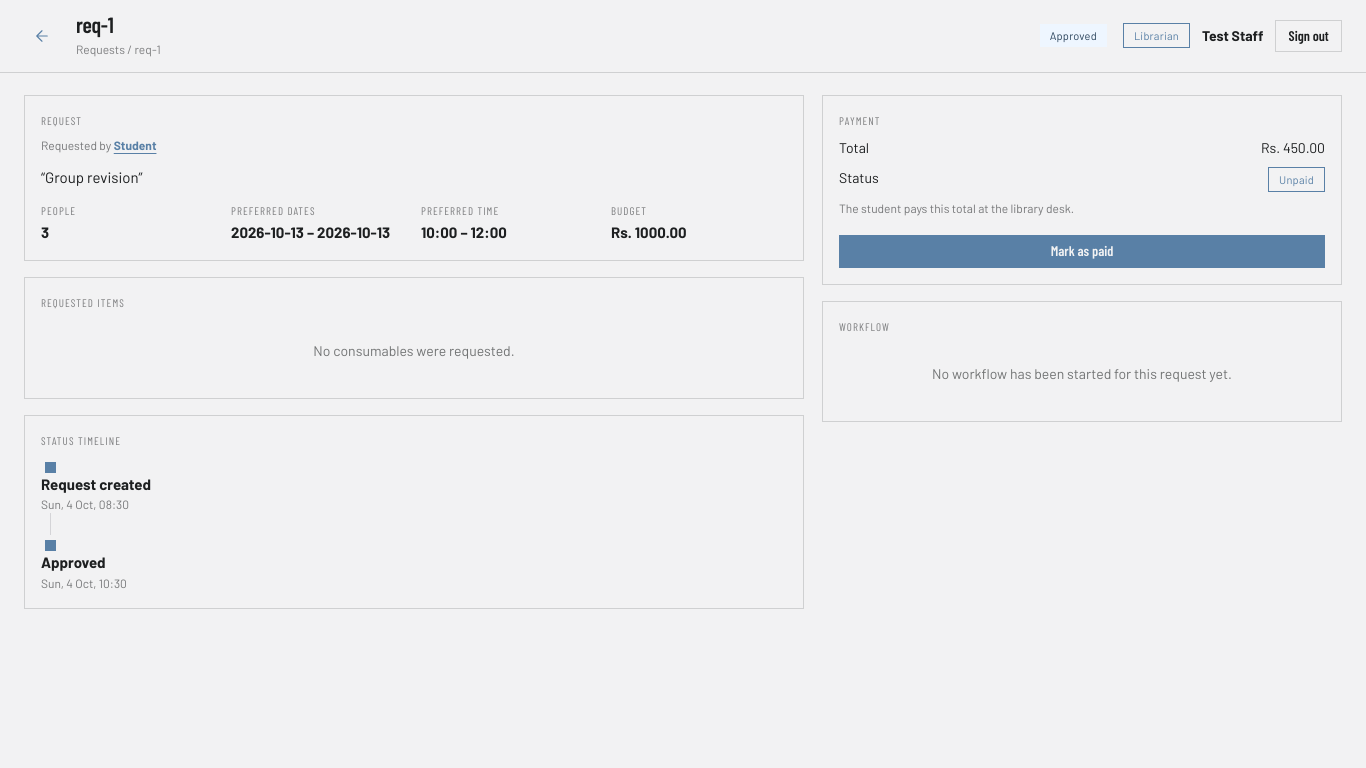
it: PLAN.md 3.3 payment › Librarian marks an unpaid approved request as paid with a receipt number
Check: the text "Unpaid" is shown, box [1268, 167, 1325, 192]
Click the button "Mark as paid". click: coordinates (1082, 251)
box: [839, 235, 1325, 268]
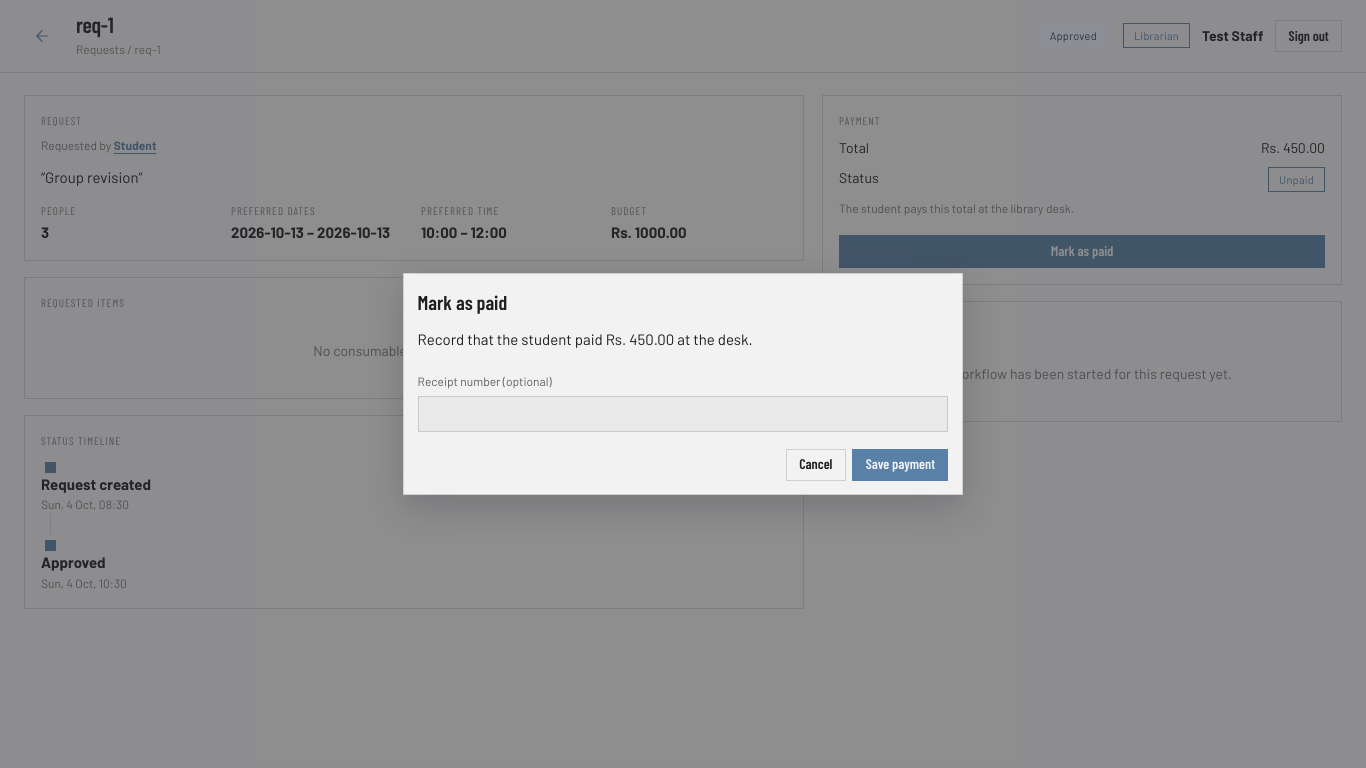
Type "RCPT-7" into the field named "Receipt number (optional)". click: coordinates (683, 414)
box: [418, 396, 948, 432]
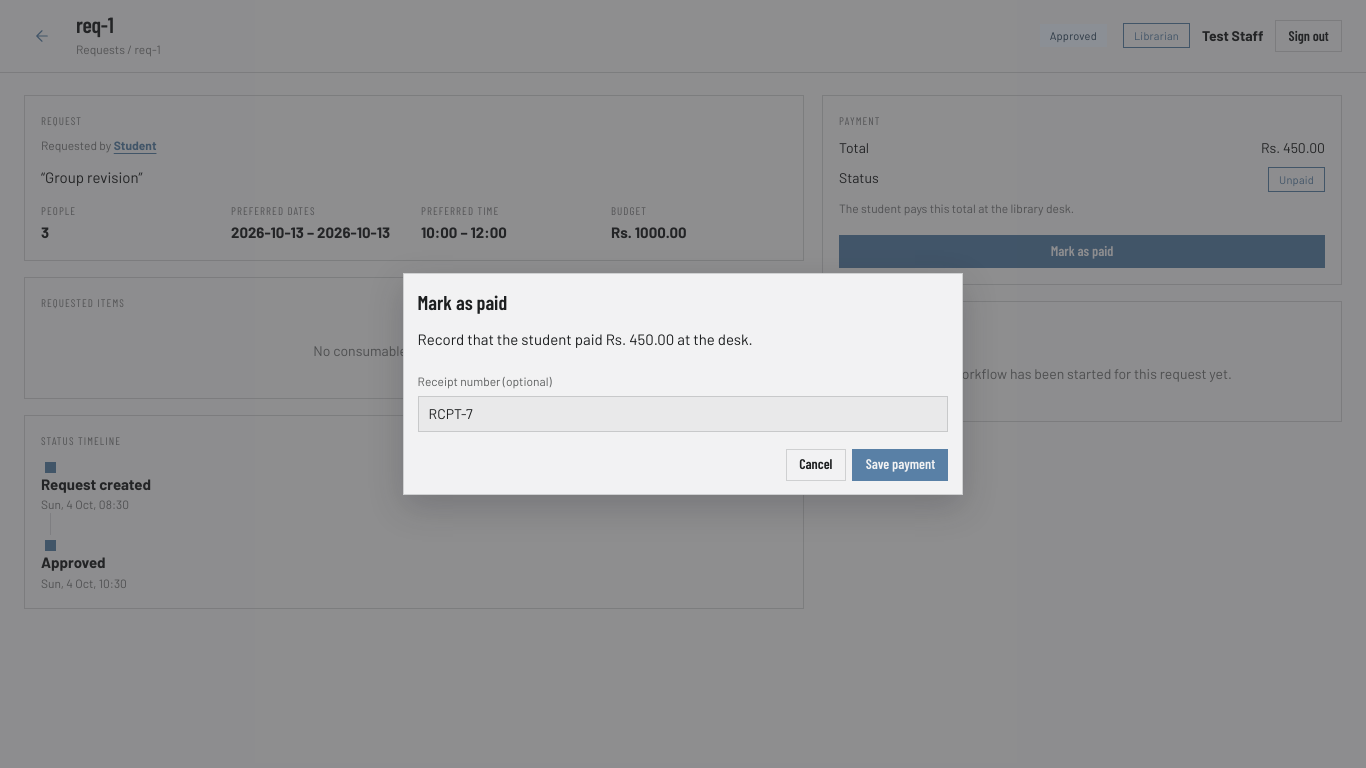
Click the button "Save payment". click: coordinates (900, 465)
box: [852, 448, 948, 481]
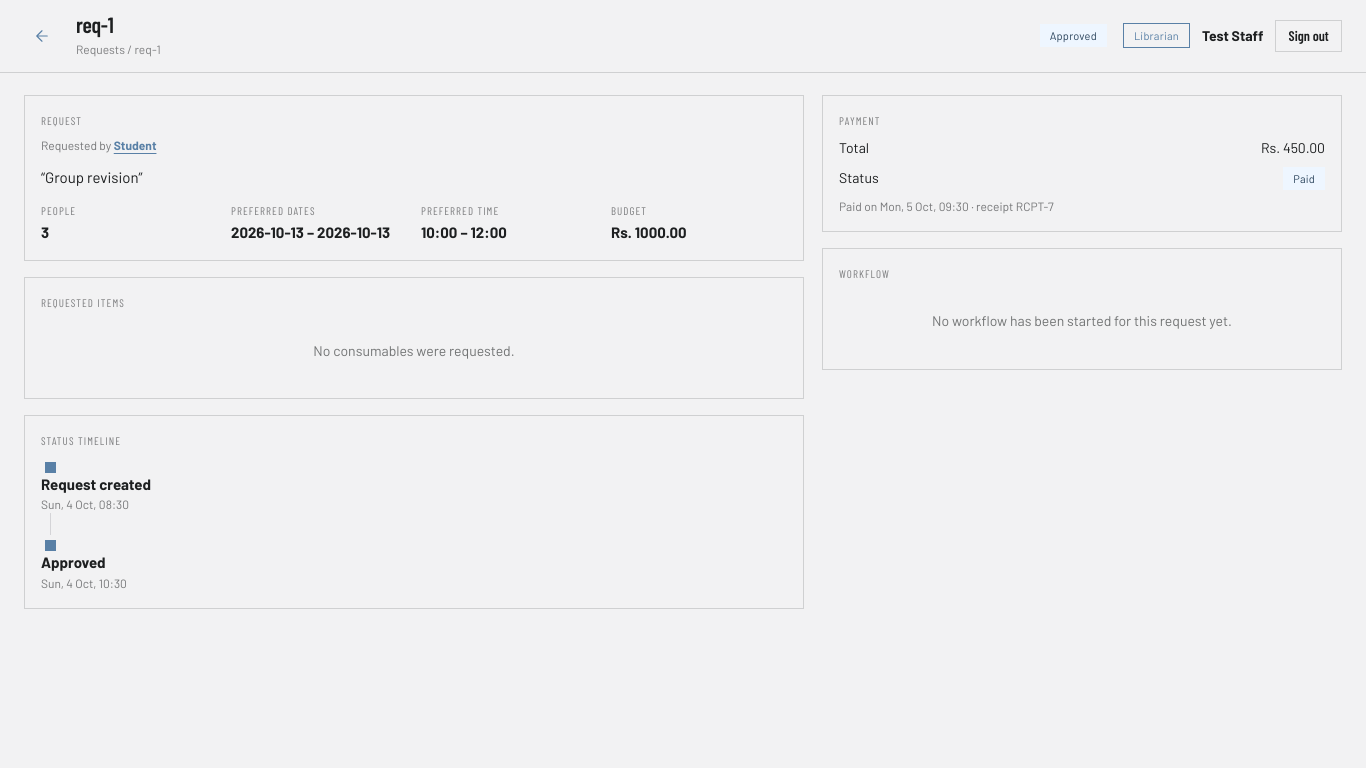
Check: the text "Paid" is shown, box [1283, 167, 1325, 190]
Check: the text "Paid on Mon, 5 Oct, 09:30 · receipt RCPT-7" is shown, box [839, 199, 1054, 213]
Check: the button "Mark as paid" is gone
